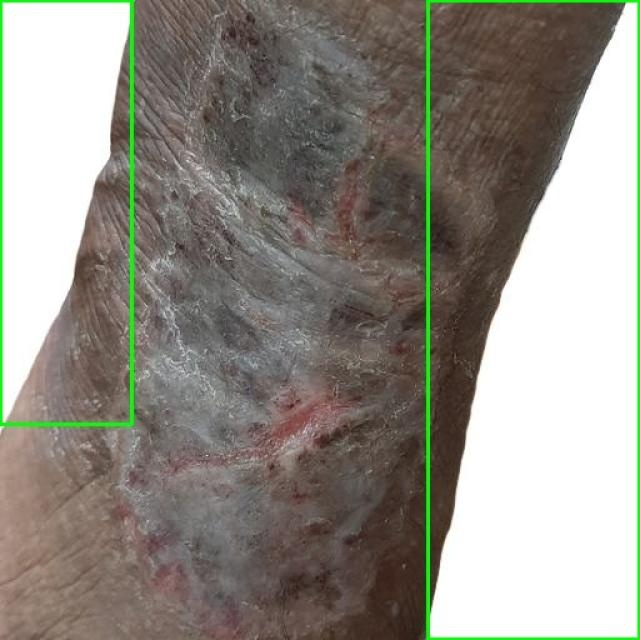Eczema: (428, 0, 639, 639), (0, 0, 131, 424)
